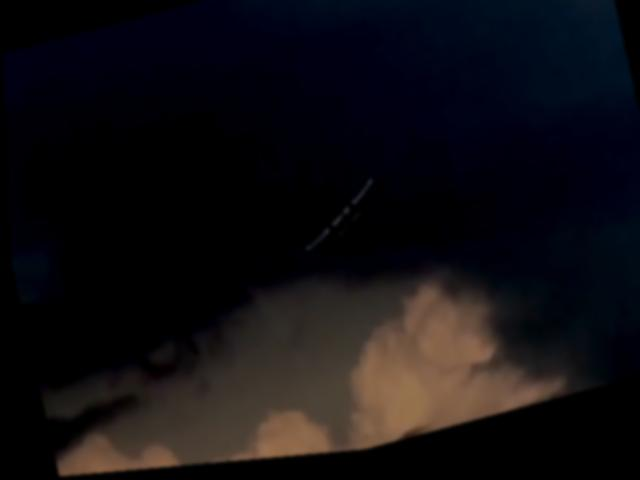plane: (290, 183, 383, 260)
